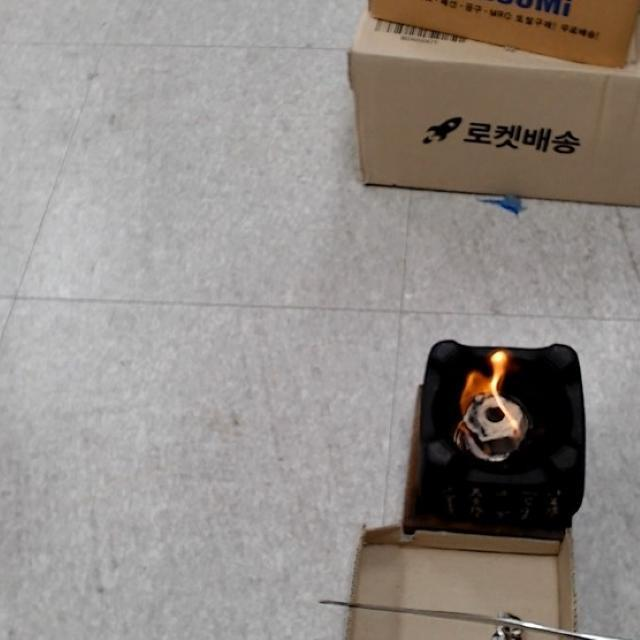Fire: (458, 347, 526, 449)
